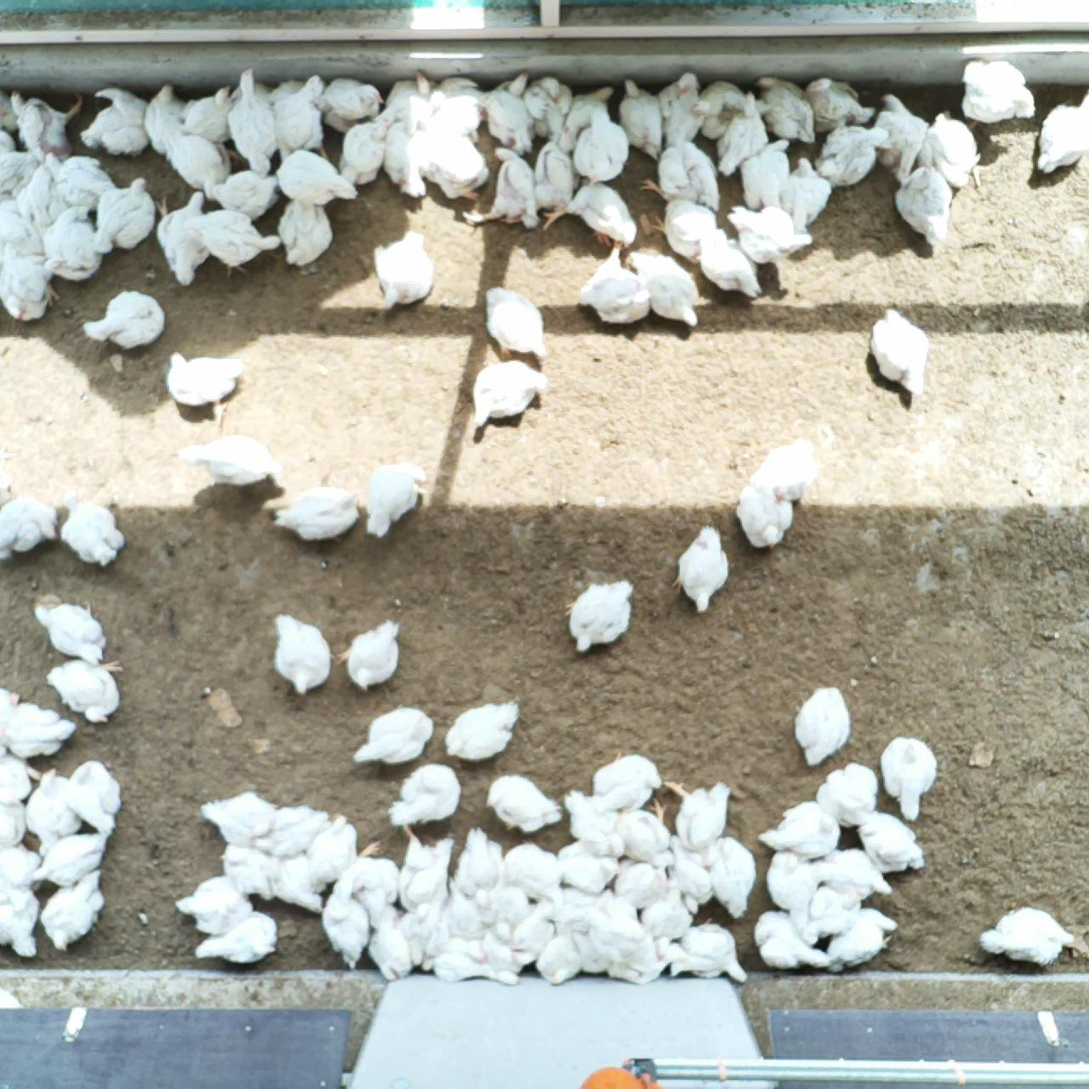chicken: (978, 901, 1089, 968), (182, 208, 283, 281), (543, 173, 640, 249), (30, 595, 123, 674), (572, 237, 653, 327), (460, 146, 543, 229), (626, 246, 704, 333), (559, 576, 638, 660), (163, 349, 244, 429), (151, 189, 215, 288), (865, 304, 931, 400), (304, 812, 380, 895), (640, 139, 724, 212), (876, 732, 941, 825), (637, 193, 720, 265), (663, 769, 733, 854), (78, 82, 156, 158), (470, 358, 548, 434), (726, 202, 818, 266), (177, 432, 282, 488), (271, 611, 337, 700), (351, 701, 436, 770), (8, 87, 85, 163), (918, 107, 986, 193), (270, 482, 362, 545), (790, 682, 855, 770), (671, 523, 732, 616), (39, 867, 105, 952), (57, 486, 127, 566), (895, 165, 957, 254), (669, 917, 750, 985), (44, 659, 126, 726), (317, 876, 374, 972), (0, 242, 62, 330), (757, 798, 845, 860), (370, 231, 438, 311), (81, 287, 166, 351), (228, 69, 278, 177), (91, 175, 161, 252), (693, 227, 766, 300), (416, 133, 493, 202), (1030, 87, 1089, 177), (484, 283, 551, 362), (363, 461, 429, 541), (385, 762, 465, 828), (871, 90, 931, 178), (960, 56, 1039, 122), (275, 74, 331, 167), (483, 771, 564, 835), (165, 129, 233, 205), (753, 907, 830, 974), (23, 766, 82, 853), (274, 149, 362, 207), (827, 907, 899, 977), (337, 618, 404, 693), (175, 874, 253, 938), (748, 434, 821, 502), (43, 203, 105, 283), (443, 699, 521, 762), (765, 847, 834, 918), (253, 803, 337, 861), (399, 825, 454, 913), (714, 90, 769, 178), (590, 747, 663, 813), (32, 828, 115, 886), (814, 124, 889, 188), (198, 788, 277, 848), (194, 910, 280, 965), (754, 71, 817, 146), (64, 758, 124, 836), (561, 787, 625, 860), (703, 835, 759, 918), (484, 72, 539, 156), (503, 837, 567, 908), (815, 847, 894, 904), (813, 762, 880, 829), (0, 702, 77, 760), (617, 795, 675, 871), (0, 491, 58, 567), (779, 153, 834, 233), (43, 150, 121, 206), (805, 76, 875, 138), (577, 111, 633, 188), (737, 135, 795, 209), (383, 112, 433, 197), (277, 201, 336, 273), (321, 74, 386, 137), (800, 884, 866, 946), (455, 825, 504, 907), (737, 484, 795, 552), (535, 887, 612, 937), (427, 81, 489, 143), (619, 78, 666, 159), (210, 167, 279, 220), (522, 74, 574, 144), (351, 855, 400, 929), (141, 82, 189, 157), (665, 834, 711, 912), (642, 888, 690, 962), (377, 72, 441, 127), (178, 83, 237, 142), (220, 842, 278, 901), (272, 854, 327, 914), (0, 884, 43, 960), (606, 945, 683, 986), (369, 915, 414, 983), (438, 878, 488, 939), (532, 141, 576, 210), (20, 163, 67, 227), (488, 880, 533, 945), (438, 954, 523, 988), (510, 899, 556, 961), (586, 908, 643, 958), (613, 855, 668, 906), (534, 929, 581, 988), (564, 85, 616, 135), (665, 97, 714, 149), (0, 204, 47, 258), (0, 145, 42, 205), (400, 903, 438, 968), (654, 68, 702, 118), (0, 755, 43, 808), (0, 840, 41, 893), (436, 931, 490, 963), (576, 931, 608, 979), (0, 800, 28, 850)
